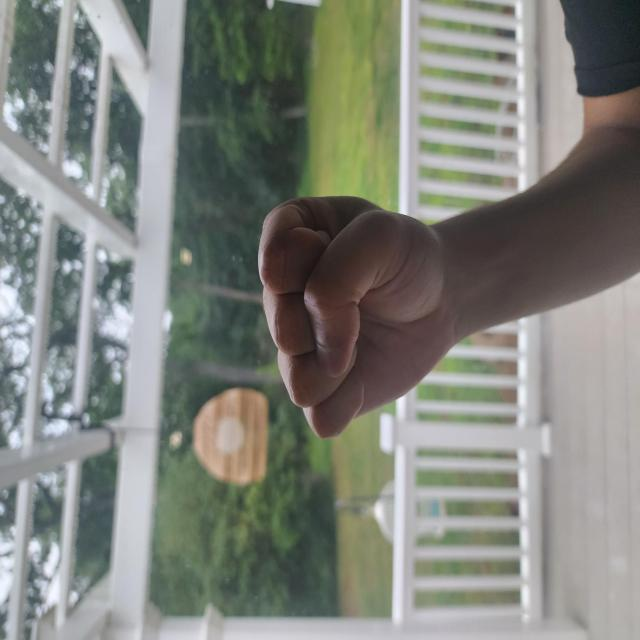S: (147, 337, 339, 615)
